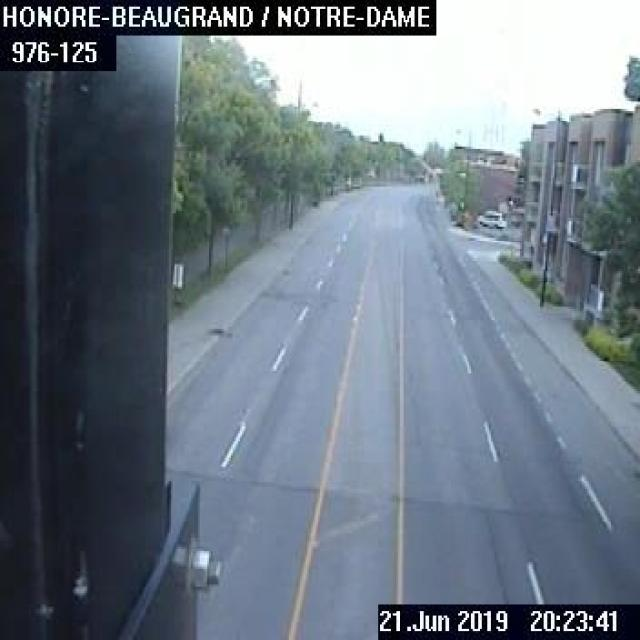vehicle: (476, 208, 506, 228)
